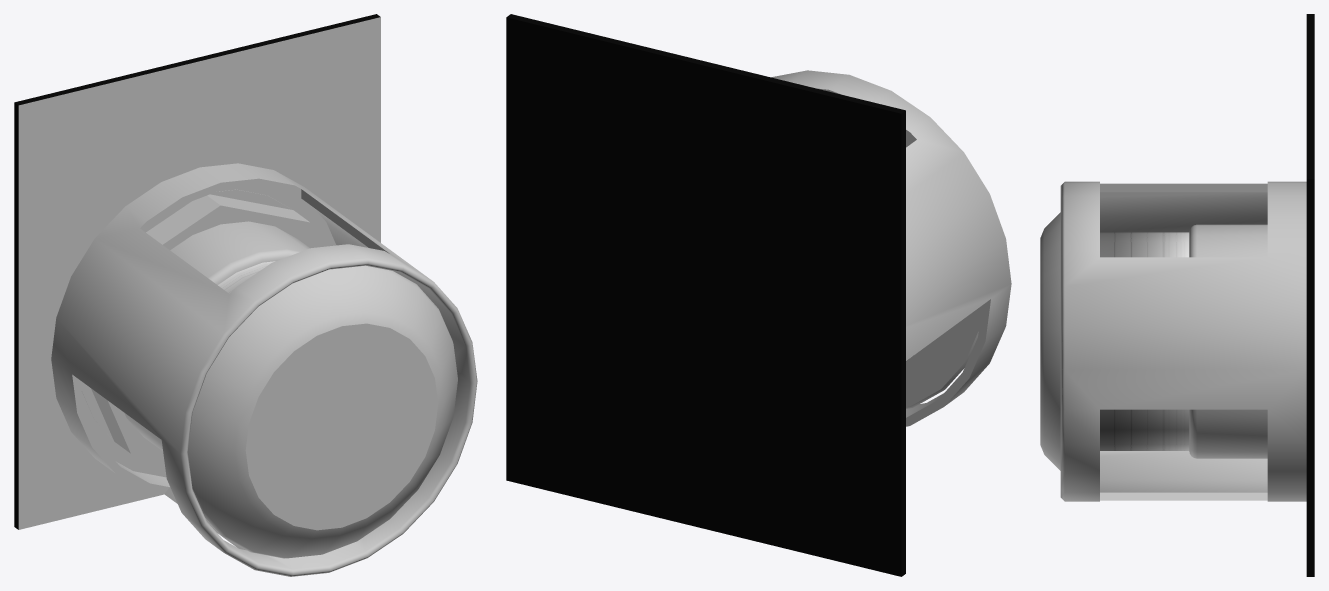
The model's file is estop_button_shielded.dae.
The picture shows the model from 3 angles, left to right: view 1: azimuth 30°, elevation 25°; view 2: azimuth 150°, elevation 25°; view 3: azimuth 270°, elevation 25°; orthographic projection. The views are drawn at different scales.
Visible parts, largest first — view 1: placard (×2), estop_button (×2), shield, housing_nut, estop_housing; view 2: placard, shield, estop_button; view 3: shield, estop_button (×2), estop_housing, placard.
Boxes of the visible parts, left/top/right/bottom form: placard (×2): left=14, top=14, right=380, bottom=529; estop_button (×2): left=187, top=265, right=457, bottom=558; shield: left=51, top=163, right=477, bottom=576; housing_nut: left=80, top=189, right=320, bottom=460; estop_housing: left=124, top=221, right=309, bottom=450; placard: left=506, top=14, right=905, bottom=576; shield: left=771, top=70, right=1011, bottom=426; estop_button: left=906, top=139, right=981, bottom=408; shield: left=1060, top=181, right=1306, bottom=501; estop_button (×2): left=1040, top=212, right=1189, bottom=470; estop_housing: left=1189, top=224, right=1267, bottom=458; placard: left=1306, top=14, right=1314, bottom=576.
Bounding box in the file's own units: 1.97 × 1.38 × 2.2.
